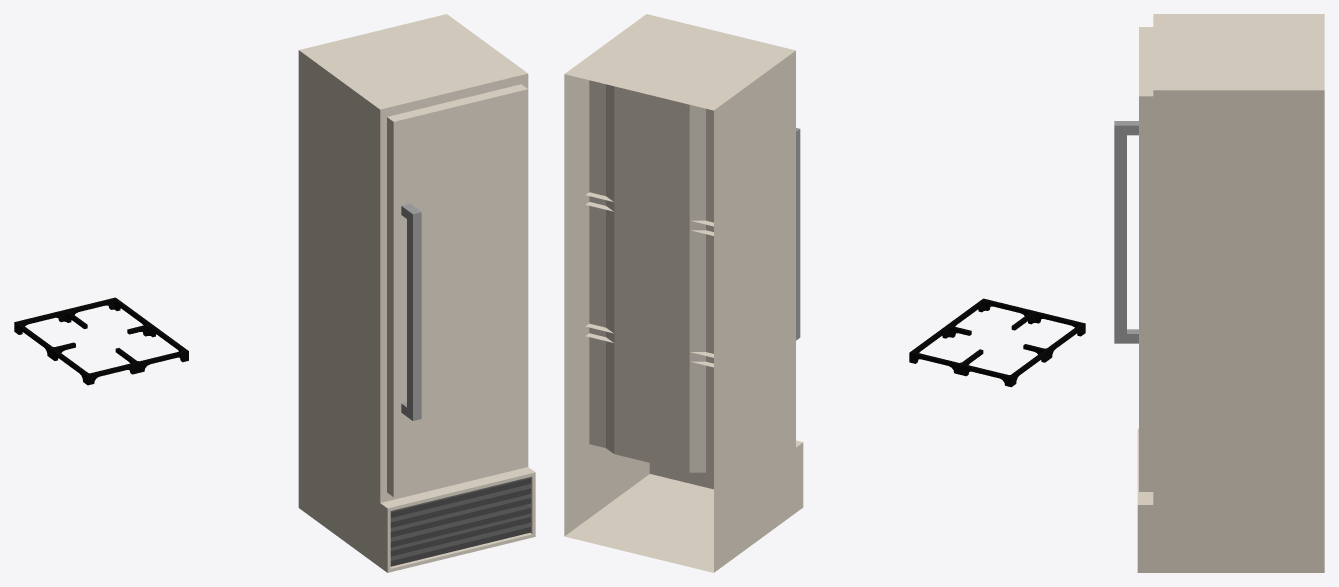
Rendered from fridge&grillCover.fbx.
The picture shows the model from 3 angles, left to right: view 1: azimuth 30°, elevation 25°; view 2: azimuth 150°, elevation 25°; view 3: azimuth 270°, elevation 25°; orthographic projection. The views are drawn at different scales.
Parts seen in each view (by area): view 1: fridge, fridge_door, stove_grillThing; view 2: fridge, stove_grillThing, fridge_door; view 3: fridge, fridge_door.
Part boxes in pixels (bbox=[...]): fridge: bbox=[298, 14, 535, 572]; fridge_door: bbox=[387, 84, 528, 497]; stove_grillThing: bbox=[14, 297, 188, 385]; fridge: bbox=[564, 14, 803, 572]; stove_grillThing: bbox=[909, 298, 1085, 387]; fridge_door: bbox=[796, 128, 800, 340]; fridge: bbox=[1137, 14, 1324, 572]; fridge_door: bbox=[1114, 27, 1153, 491].
Bounding box in the file's own units: 1.74 × 1.74 × 0.6857.
